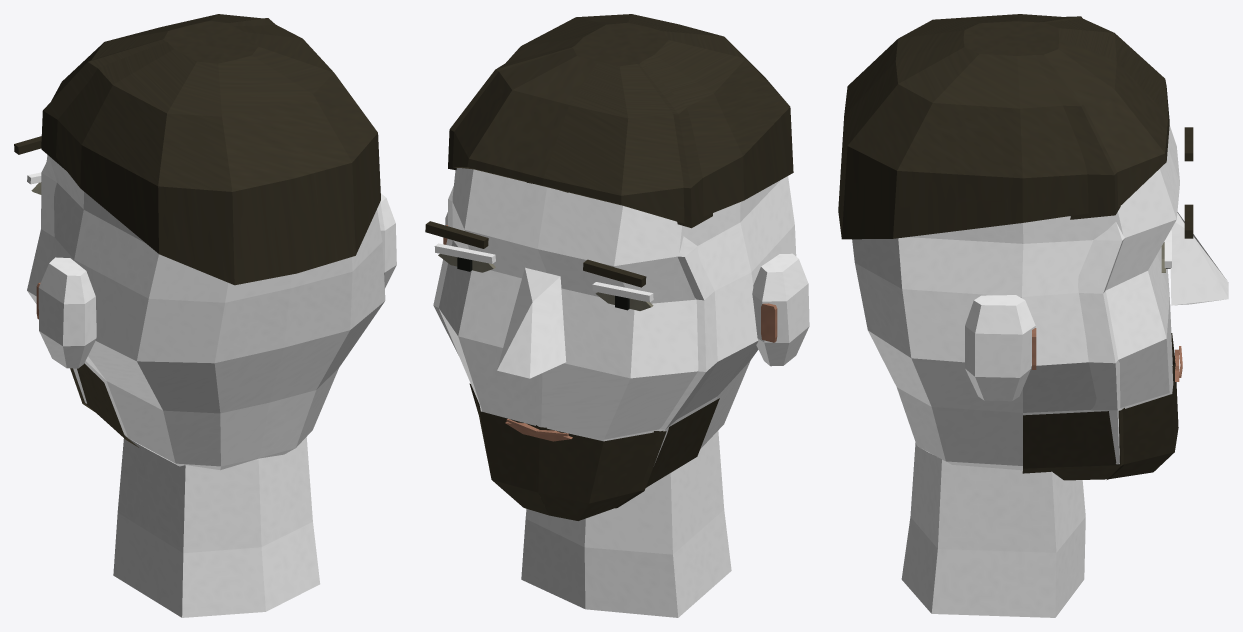
3 renders of one model, left to right at view 1: azimuth 30°, elevation 25°; view 2: azimuth 150°, elevation 25°; view 3: azimuth 270°, elevation 25°, orthographic. The views are drawn at different scales.
Visible parts, largest first — view 1: face_06_head_LOD0_RAID_skin.001, face_06_head_LOD0_RAID_hair2.001, face_06_head_LOD1_RAID_hair2.001, face_06_head_LOD1_RAID_skin.001; view 2: face_06_head_LOD0_RAID_skin.001, face_06_head_LOD0_RAID_hair2.001, face_06_head_LOD1_RAID_hair2.001, face_06_head_LOD1_RAID_skin.001, face_06_head_LOD0_RAID_lip.001, face_06_head_LOD0_RAID_eye.001; view 3: face_06_head_LOD0_RAID_skin.001, face_06_head_LOD0_RAID_hair2.001, face_06_head_LOD1_RAID_hair2.001, face_06_head_LOD1_RAID_skin.001.
Part boxes in pixels (bbox=[...]): face_06_head_LOD0_RAID_skin.001: bbox=[27, 155, 396, 617]; face_06_head_LOD0_RAID_hair2.001: bbox=[14, 14, 380, 447]; face_06_head_LOD1_RAID_hair2.001: bbox=[41, 18, 275, 412]; face_06_head_LOD1_RAID_skin.001: bbox=[27, 157, 86, 403]; face_06_head_LOD0_RAID_skin.001: bbox=[434, 168, 809, 617]; face_06_head_LOD0_RAID_hair2.001: bbox=[425, 14, 793, 520]; face_06_head_LOD1_RAID_hair2.001: bbox=[448, 25, 712, 508]; face_06_head_LOD1_RAID_skin.001: bbox=[433, 186, 717, 462]; face_06_head_LOD0_RAID_lip.001: bbox=[443, 225, 777, 441]; face_06_head_LOD0_RAID_eye.001: bbox=[438, 254, 653, 310]; face_06_head_LOD0_RAID_skin.001: bbox=[852, 125, 1228, 617]; face_06_head_LOD0_RAID_hair2.001: bbox=[838, 14, 1193, 480]; face_06_head_LOD1_RAID_hair2.001: bbox=[966, 16, 1175, 479]; face_06_head_LOD1_RAID_skin.001: bbox=[1078, 222, 1124, 464].
Size of the model in its own units: 0.2704 by 0.405 by 0.265.
5 materials, 5 textured.
